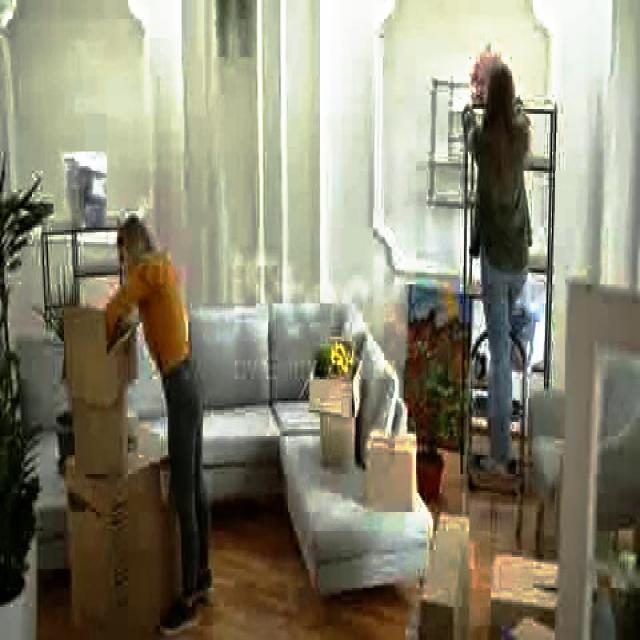Box: (68, 474, 169, 623), (424, 514, 483, 636), (68, 327, 139, 410), (491, 552, 565, 628), (367, 429, 420, 505), (314, 380, 358, 458), (73, 413, 127, 474)
